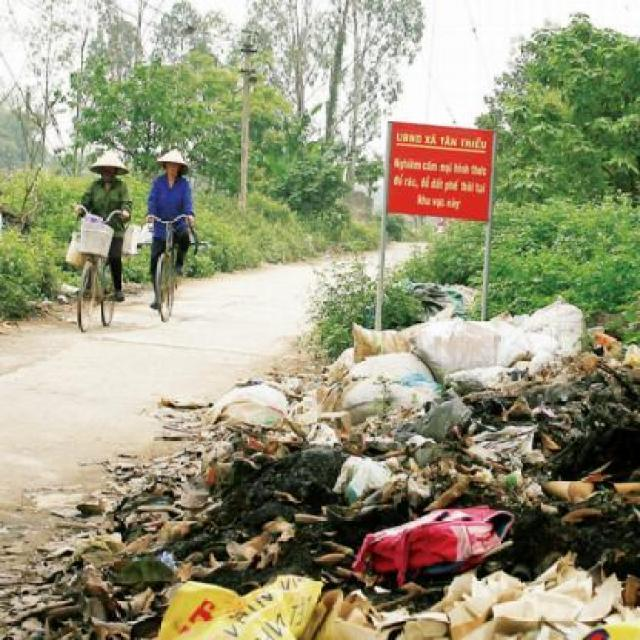plastic bag: (103, 298, 639, 640)
